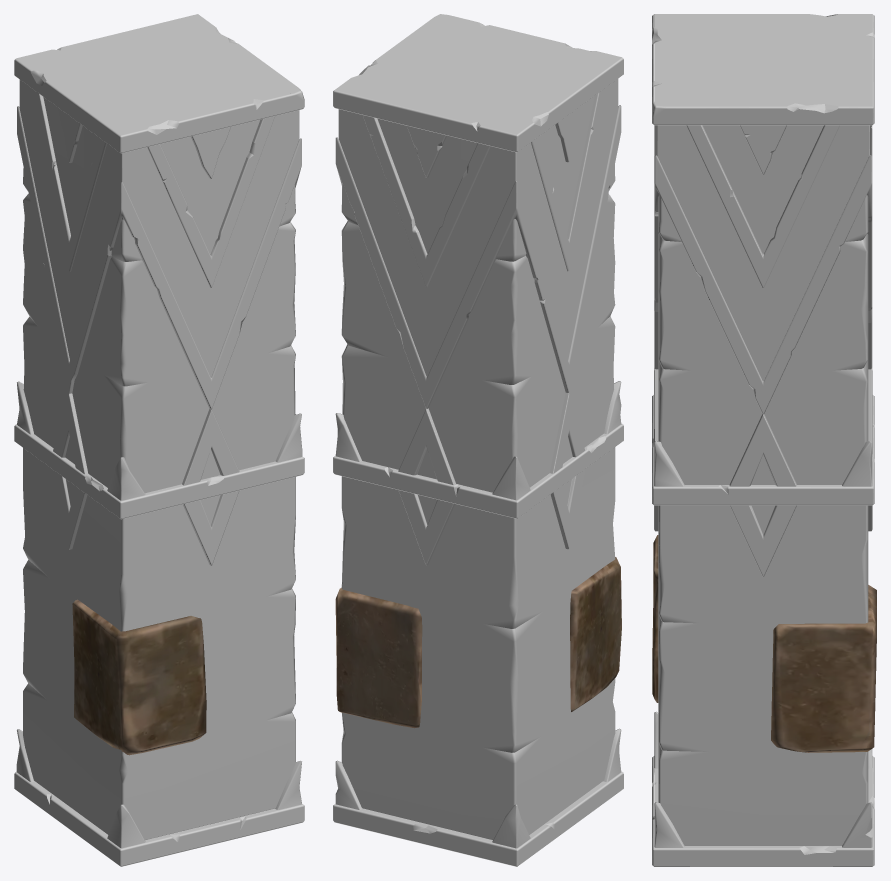
3 views of the same model, side by side, from view 1: azimuth 30°, elevation 25°; view 2: azimuth 150°, elevation 25°; view 3: azimuth 270°, elevation 25° (orthographic). The views are drawn at different scales.
Parts seen in each view (by area): view 1: SM_Vault_8m_Column_01_V1_LOD0; view 2: SM_Vault_8m_Column_01_V1_LOD0; view 3: SM_Vault_8m_Column_01_V1_LOD0.
Part boxes in pixels (left/top/right/bottom): SM_Vault_8m_Column_01_V1_LOD0: left=14, top=14, right=304, bottom=866; SM_Vault_8m_Column_01_V1_LOD0: left=333, top=14, right=623, bottom=866; SM_Vault_8m_Column_01_V1_LOD0: left=652, top=14, right=876, bottom=866.
Size of the model in its own units: 2.12 by 8 by 2.14.
